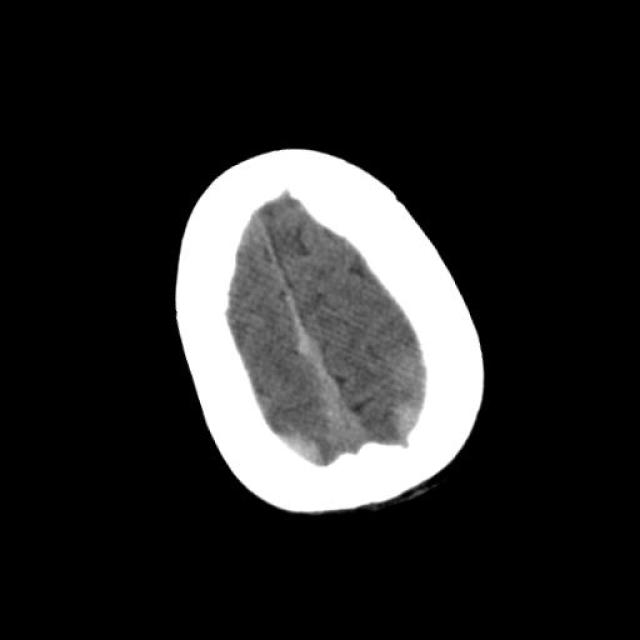Subdural: (252, 274, 393, 474)
